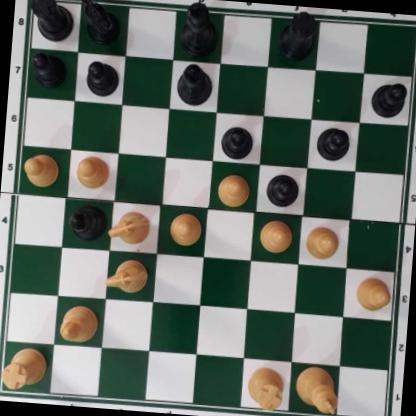black-bishop: (175, 62, 215, 108), (69, 201, 108, 242)
black-king: (178, 0, 221, 59)
black-knight: (78, 0, 122, 44)
black-pawn: (370, 79, 408, 119), (30, 50, 69, 88), (220, 122, 257, 160), (315, 124, 352, 162), (264, 170, 300, 209), (83, 57, 118, 97)
black-rook: (277, 9, 318, 61), (27, 0, 76, 42)
white-bishop: (57, 303, 100, 345)
white-king: (293, 363, 340, 416)
white-knight: (107, 208, 153, 246), (105, 256, 149, 295)
white-pawn: (353, 275, 392, 313), (303, 221, 340, 261), (215, 173, 252, 209), (74, 154, 111, 190), (22, 152, 60, 187), (258, 217, 293, 254), (167, 211, 203, 246)
white-rook: (0, 345, 49, 391), (246, 367, 287, 411)
